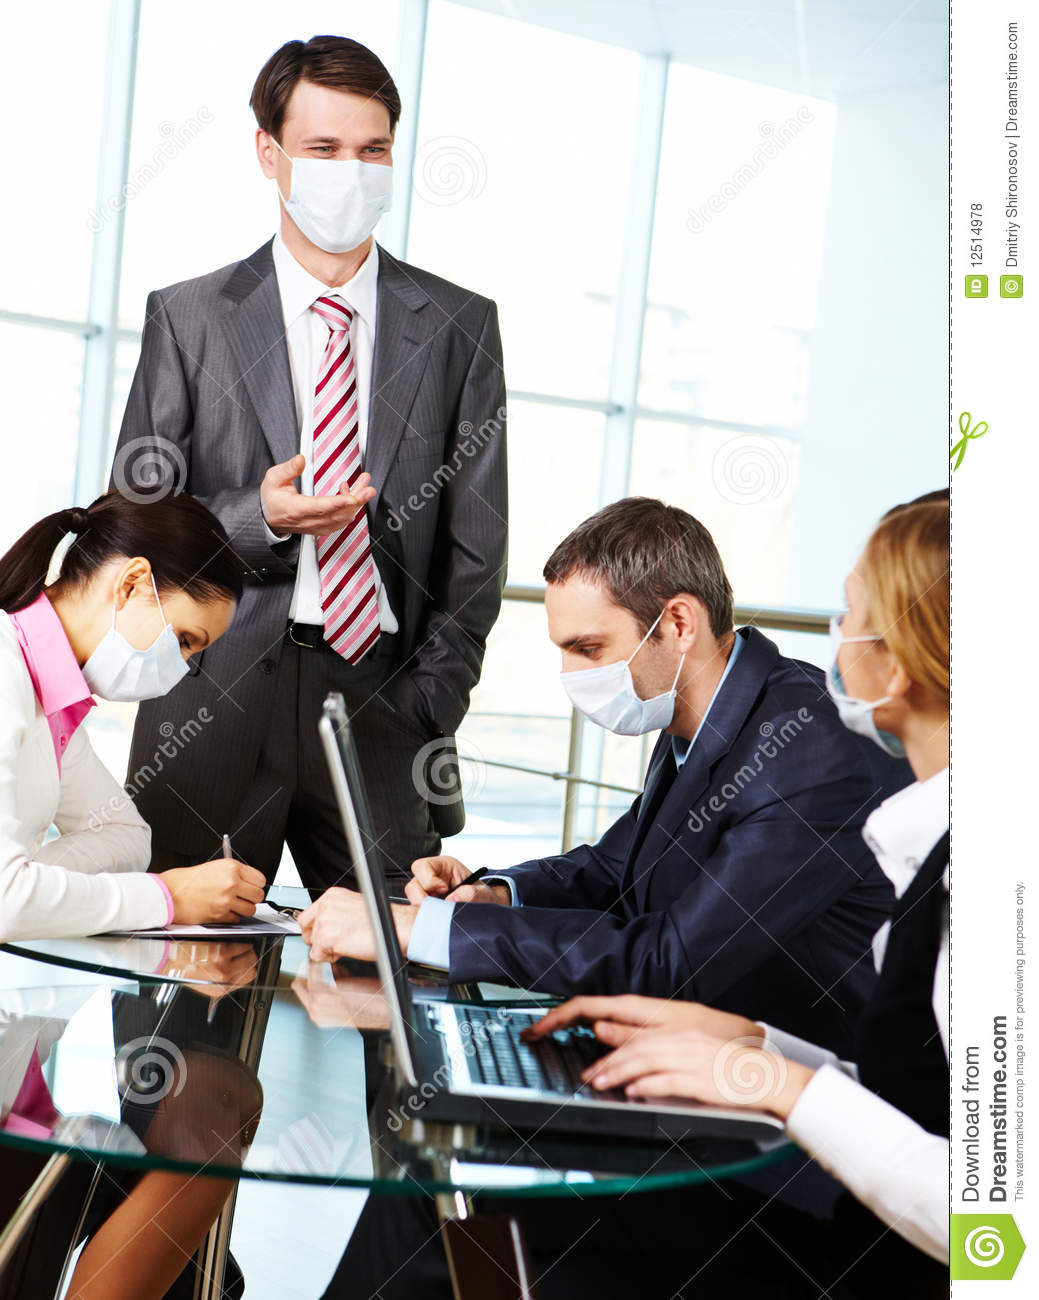mask: (284, 158, 392, 252), (560, 664, 675, 736), (84, 630, 189, 701)
